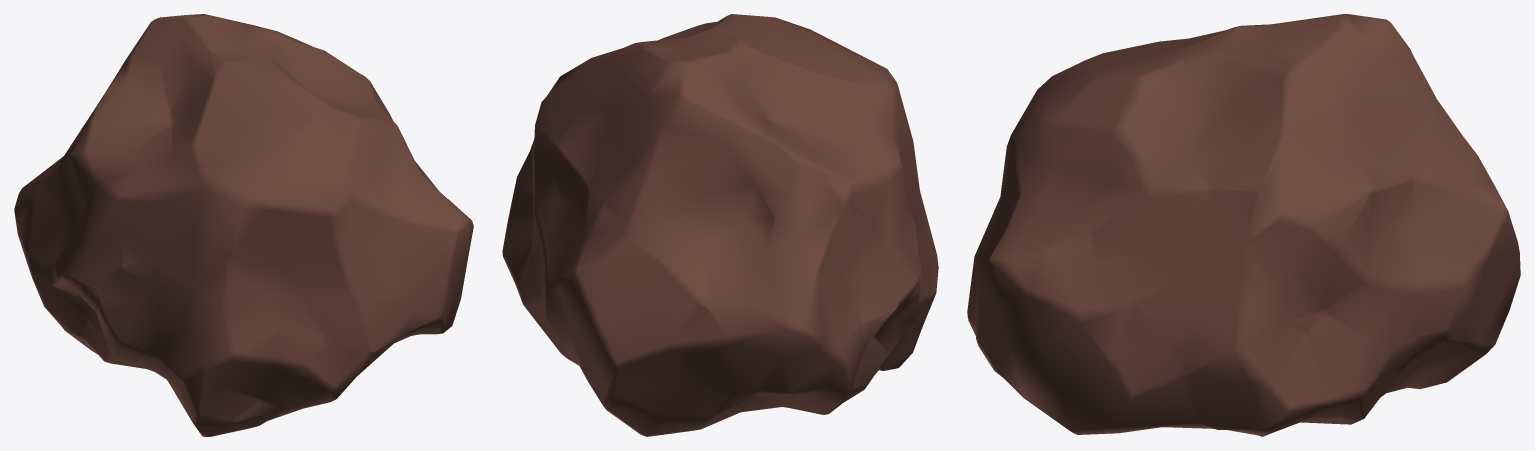
The model's file is hvs_fillers_rockmedium01.fbx.
3 renders of one model, left to right at view 1: azimuth 30°, elevation 25°; view 2: azimuth 150°, elevation 25°; view 3: azimuth 270°, elevation 25°, orthographic. The views are drawn at different scales.
Visible parts, largest first — view 1: Cube.006; view 2: Cube.006; view 3: Cube.006.
Part boxes in pixels (x1,y1,x2,y2): Cube.006: [14, 14, 473, 436]; Cube.006: [502, 14, 938, 436]; Cube.006: [967, 14, 1520, 436].
Size of the model in its own units: 9.63 by 8.53 by 10.69.
